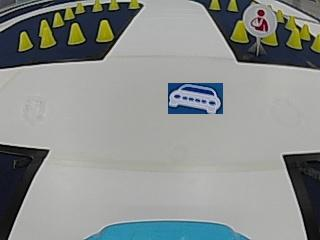cone: (38, 21, 56, 46), (67, 22, 86, 44), (96, 19, 114, 42), (231, 21, 249, 43), (287, 27, 302, 49), (18, 31, 33, 50), (310, 33, 320, 52), (53, 12, 64, 26), (91, 0, 102, 12), (127, 0, 140, 10), (75, 1, 85, 14), (227, 0, 238, 11), (108, 0, 119, 11), (64, 7, 74, 19), (209, 0, 220, 10), (276, 9, 283, 21)
patient: (244, 3, 276, 36)
